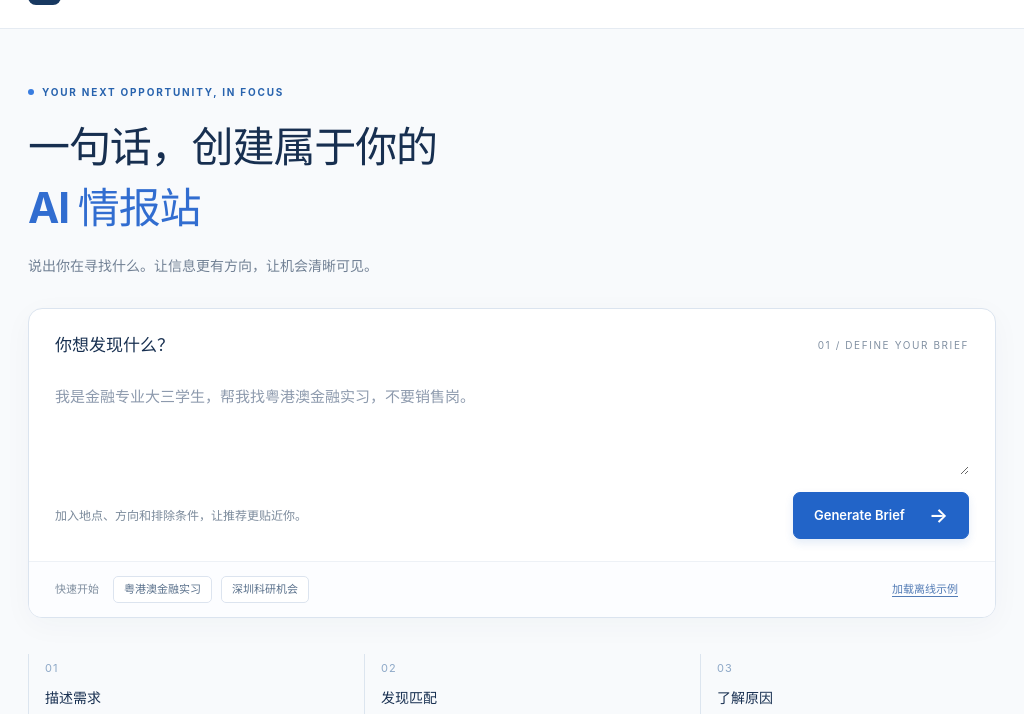
Test: Web MVP › shows an empty state without cards
Click the button "粤港澳金融实习".
click(162, 589)  # box [113, 576, 212, 603]
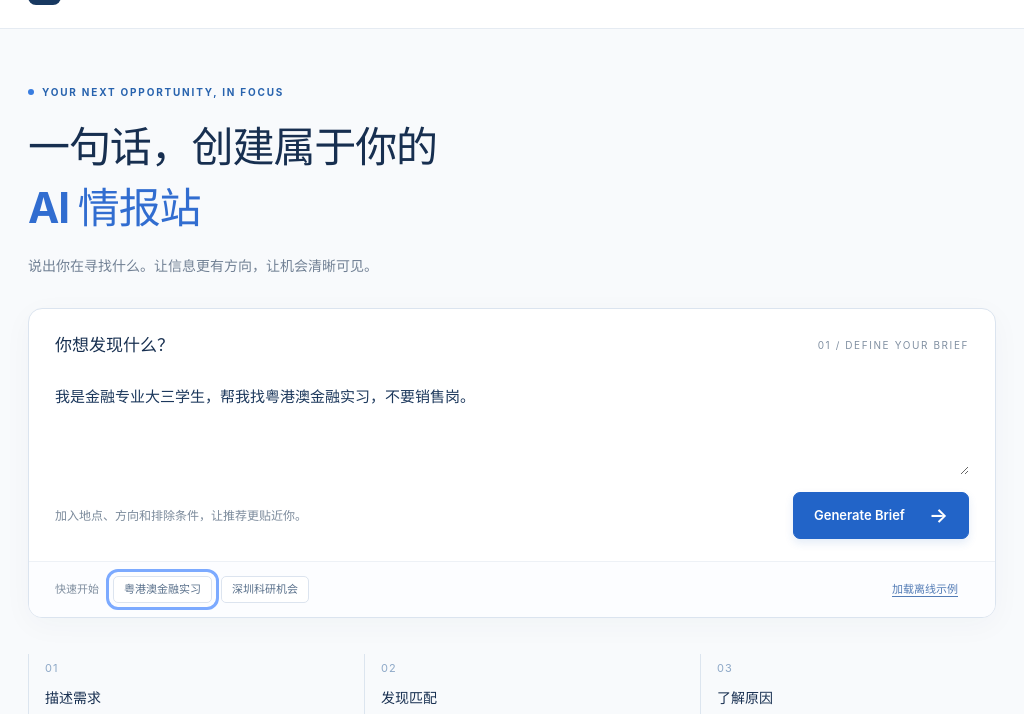
Click the button "Generate Brief →".
click(881, 515)  # box [793, 492, 969, 539]
(page scrolled)
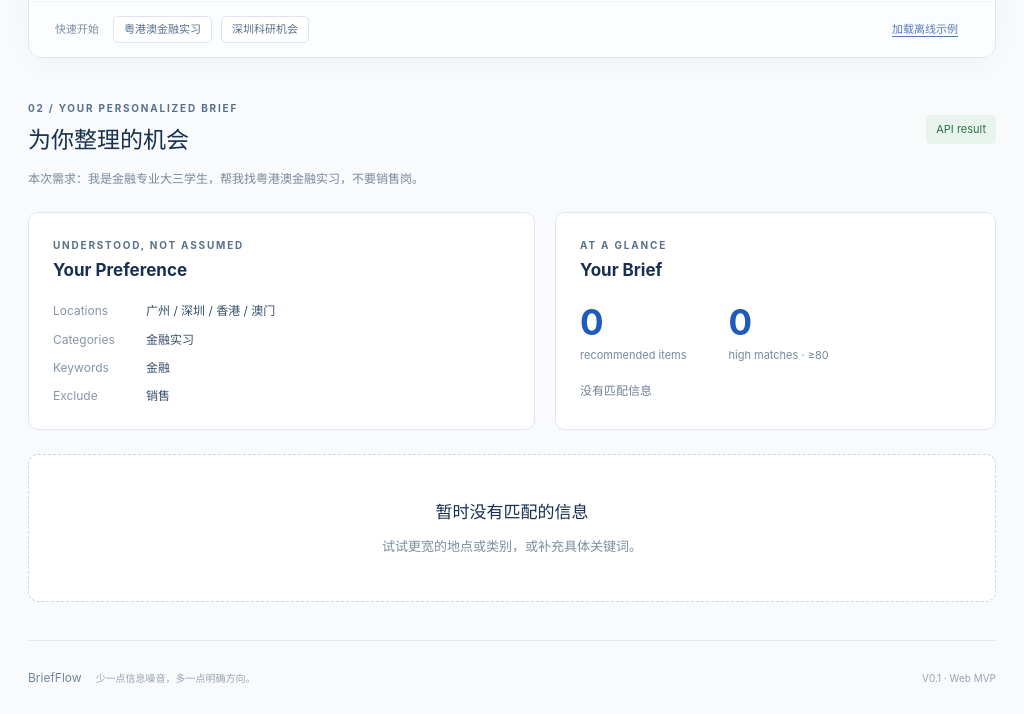
Expected: the heading "暂时没有匹配的信息" is shown, [436, 502, 588, 522]
